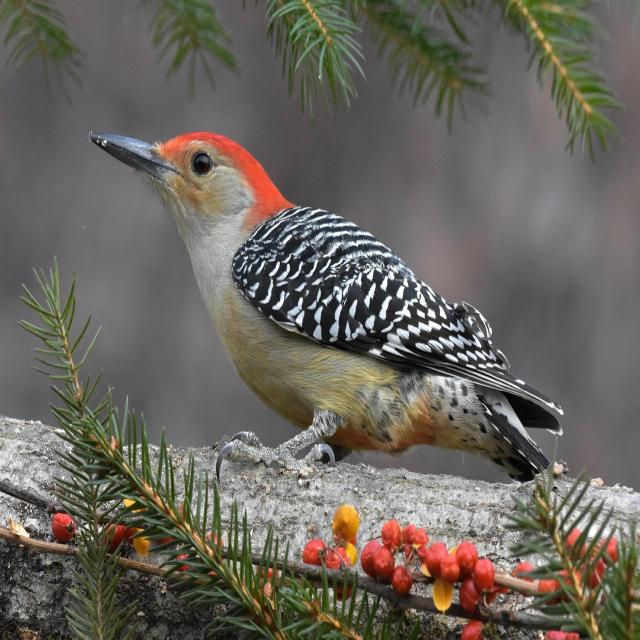Woodpecker: (89, 120, 554, 483)
